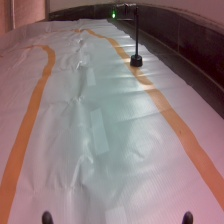green: (110, 2, 144, 69)
